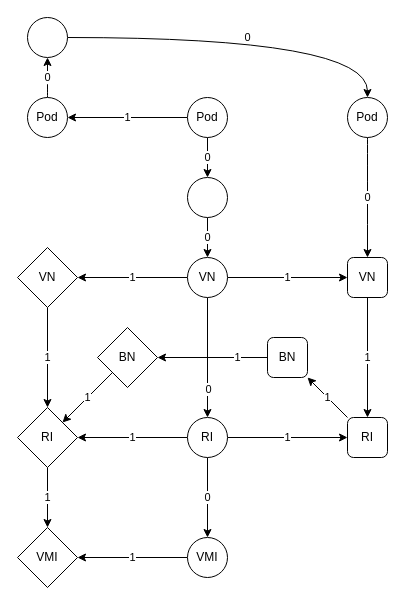
Image size: 405x605. Some labels were removed from this diagram. The centre of each missing label's shape, as x and y in pixels:
CM: the point at 47,37
VM: the point at 207,197
